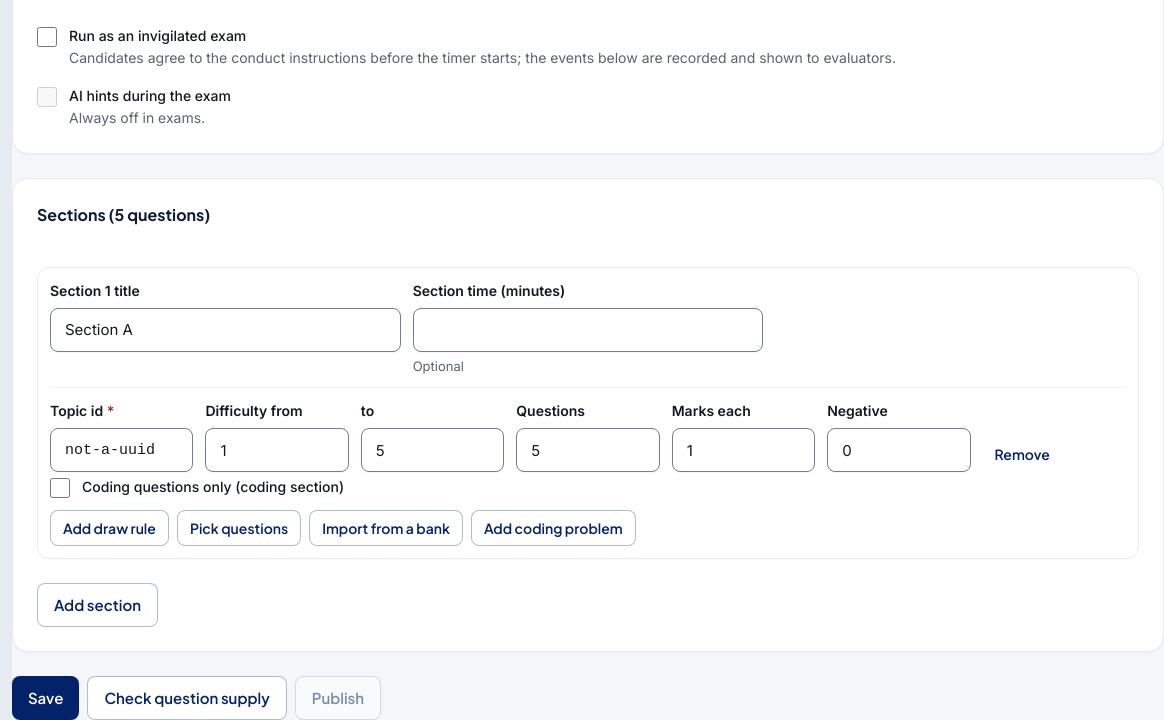
it: ADM-52 test builder › maps problem+json errors[] to the matching rule fields
This screenshot has width=1164, height=720.
(page scrolled)
Click the button "Save": (46, 698) [12,676,79,719]
(page scrolled)
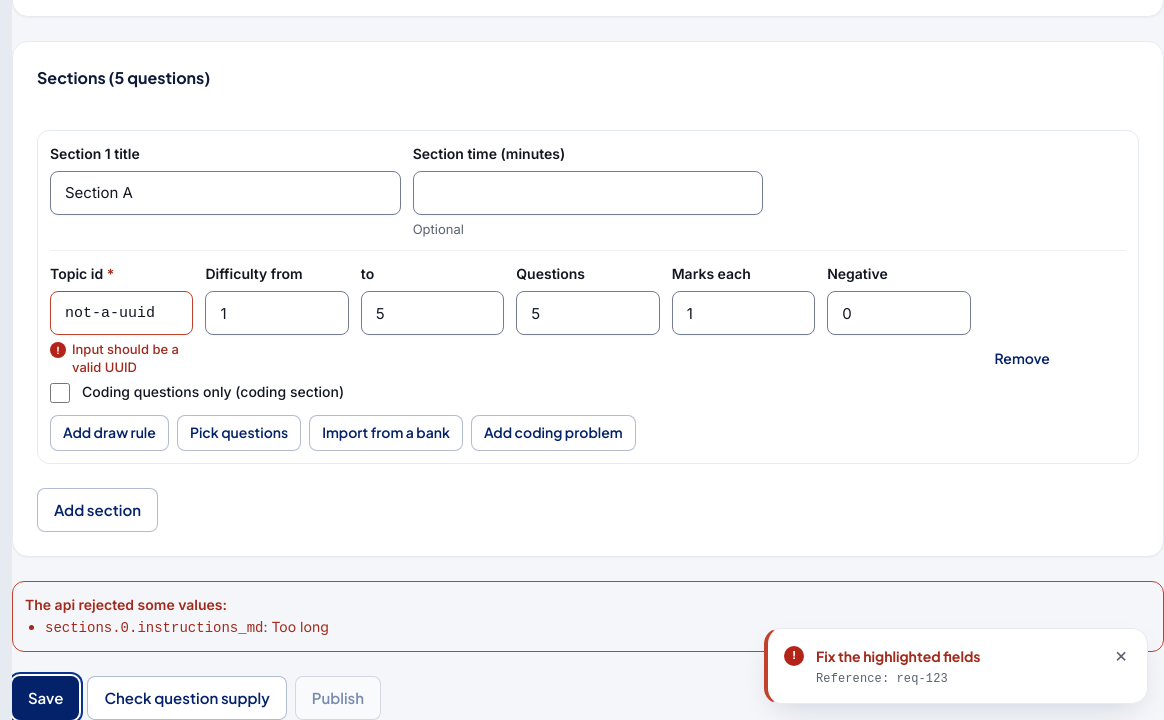
expect the text "Input should be a valid UUID" is shown: met, box [72,341,179,375]
expect the text "sections.0.instructions_md" is shown: met, box [45,620,263,636]
